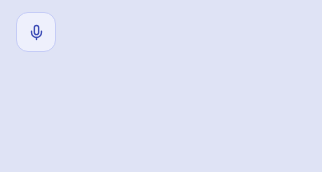
it: MicButton › يعرض رسالة خطأ عربية عند رفض إذن المايكروفون
Click the button named "بدء الإدخال الصوتي".
click(36, 32)  # box [16,12,56,52]
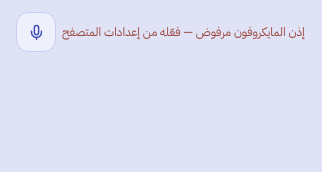
Expected: the message shows "المايكروفون", [62,23,305,41]
